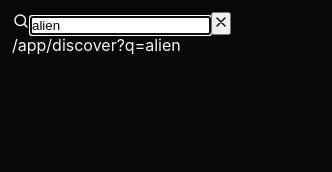
Scenario: NavSearch › clears the box with the X and keeps it open
The width and height of the screenshot is (332, 172).
Click the button named "Clear search". click: point(221, 24)
box: [211,12,231,35]
Wait 300 ms
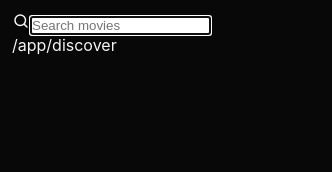
Expected: the text with test id "where" reads "/app/discover", [12,35,117,55]
Expected: the field labelled "Search movies" is empty, [30,16,211,35]
